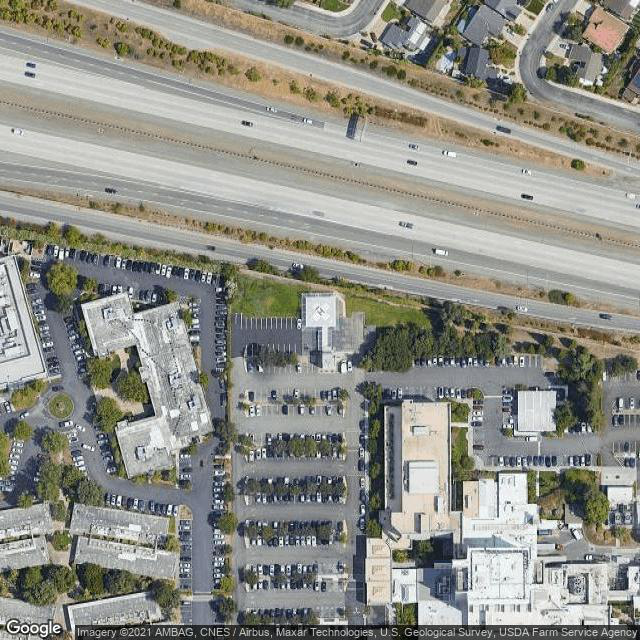Helipad: (303, 297, 336, 327)
